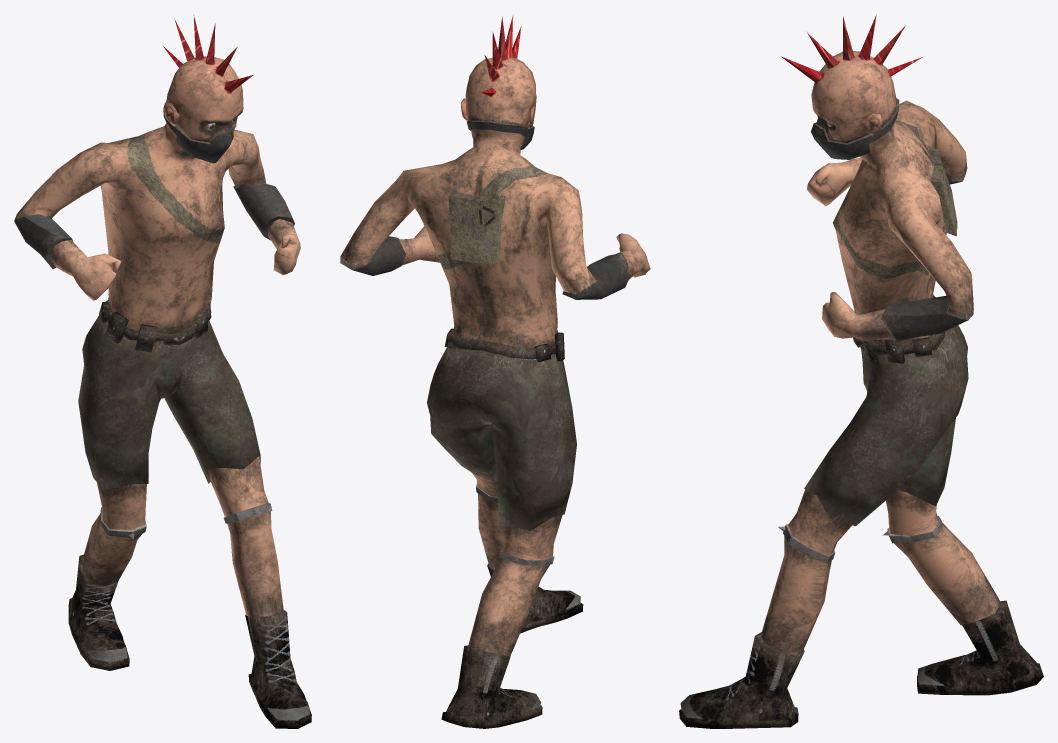
Rendered from Anim_ataque_d2_npc2.0018.obj.
3 views of the same model, side by side, from view 1: azimuth 30°, elevation 25°; view 2: azimuth 150°, elevation 25°; view 3: azimuth 270°, elevation 25° (orthographic). The views are drawn at different scales.
Visible parts, largest first — view 1: polySurface1; view 2: polySurface1; view 3: polySurface1.
Boxes of the visible parts, <box> form: polySurface1: <box>14,14,311,728</box>; polySurface1: <box>340,14,650,728</box>; polySurface1: <box>679,14,1043,728</box>.
Bounding box in the file's own units: 4 × 9.76 × 4.58.
